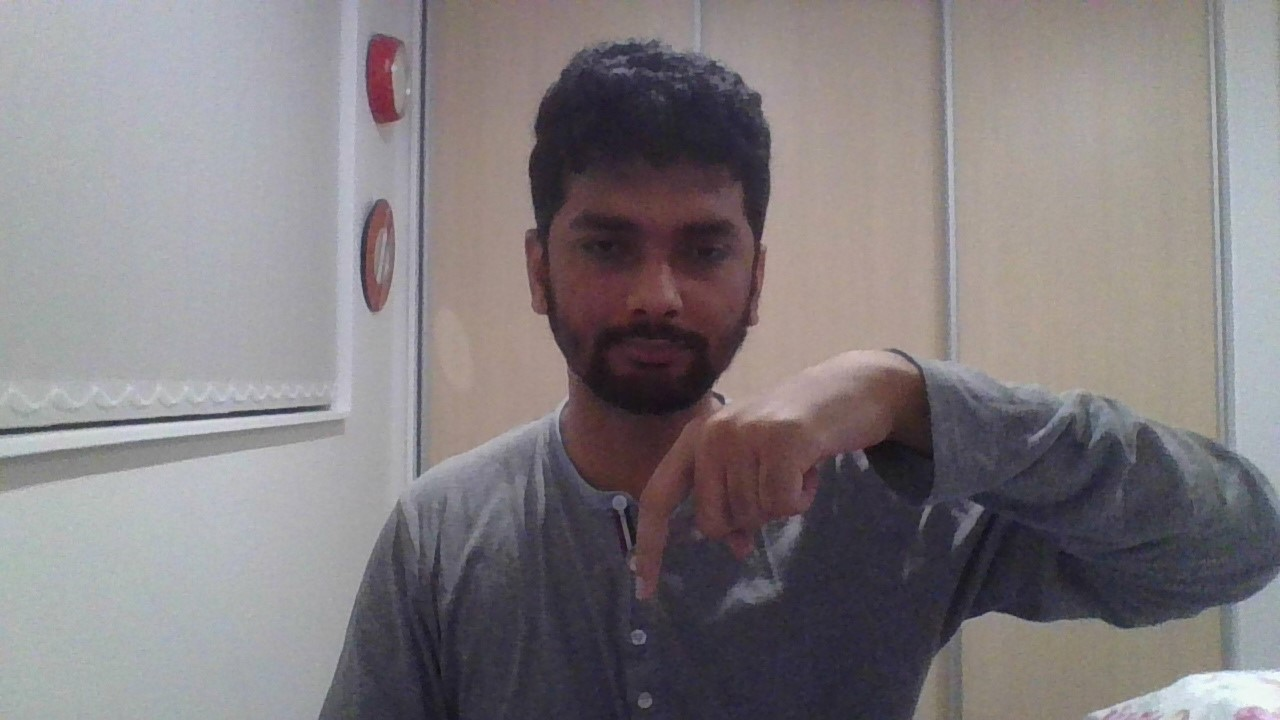below: (633, 351, 915, 600)
